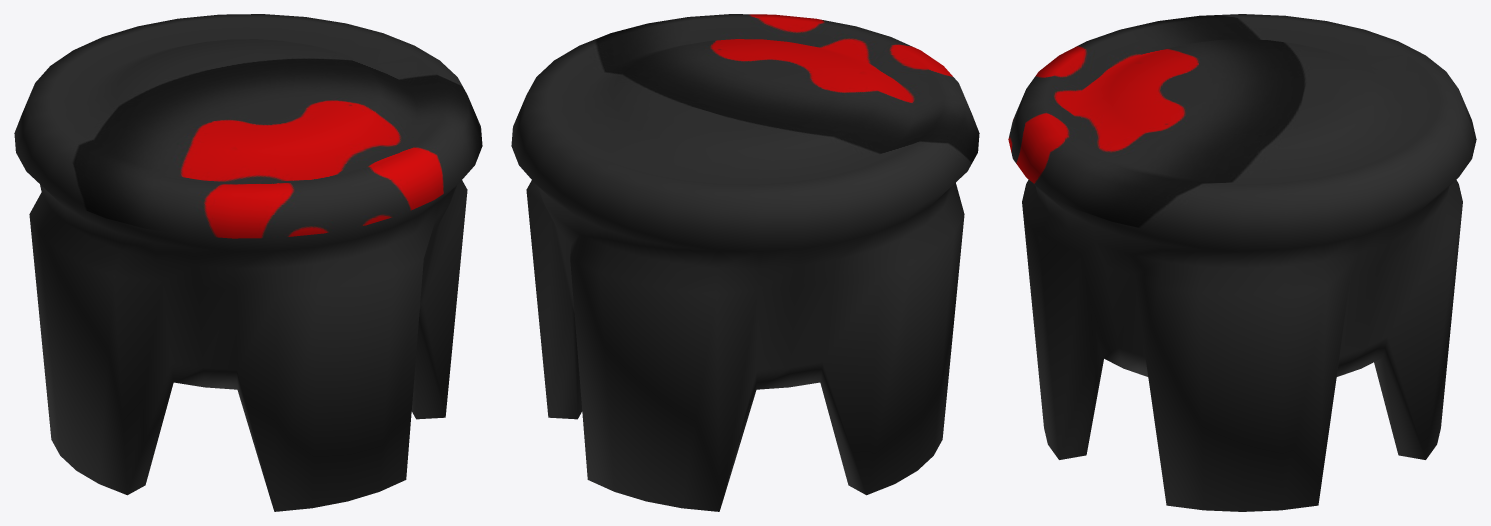
File: pulijudam-dot-tiger.gltf
3 renders of one model, left to right at view 1: azimuth 30°, elevation 25°; view 2: azimuth 150°, elevation 25°; view 3: azimuth 270°, elevation 25°, orthographic.
Size of the model in its own units: 1.65 by 1.31 by 1.65.
Materials: 1 (1 with a texture image).
